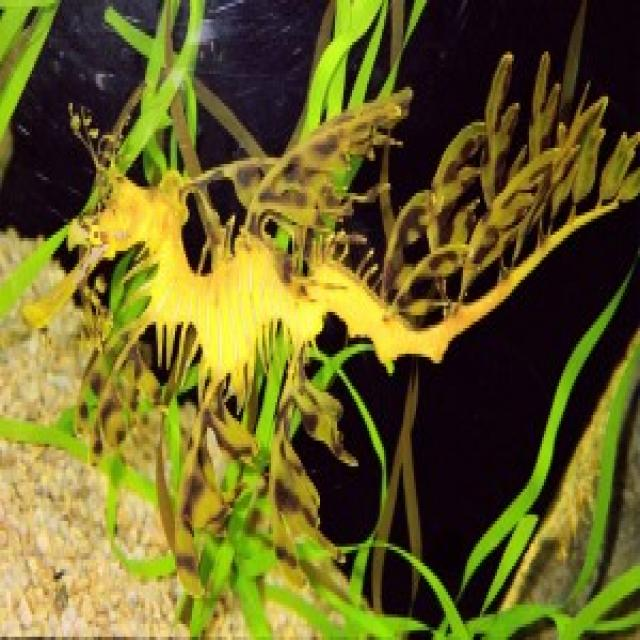Seahorse: (22, 167, 525, 361)
